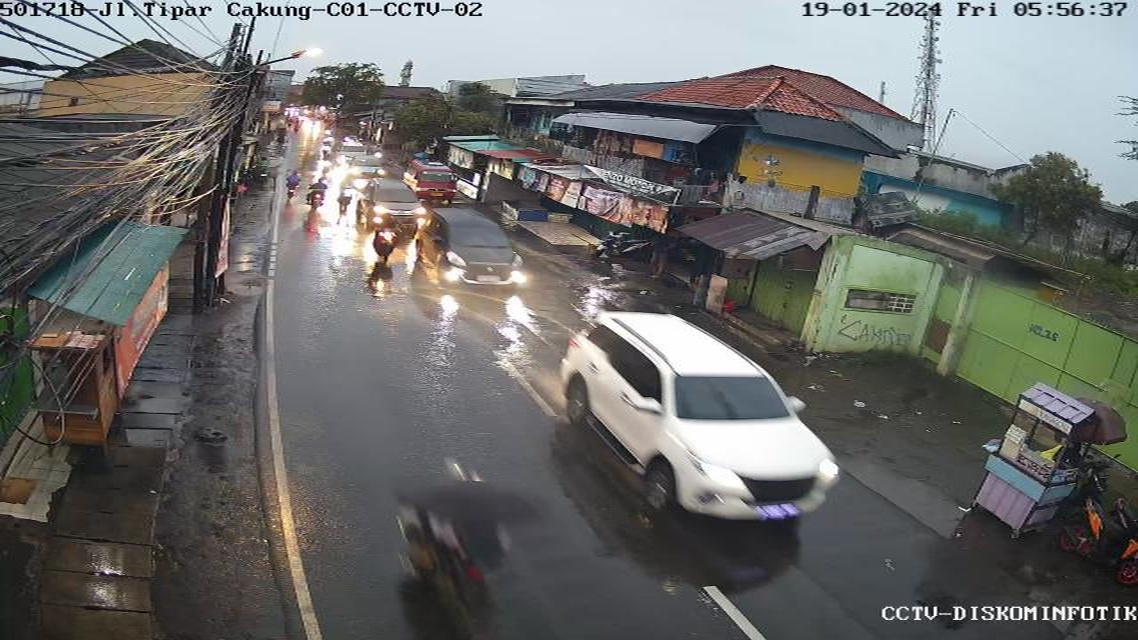Gerobak: (973, 367, 1104, 539), (11, 301, 155, 448)
